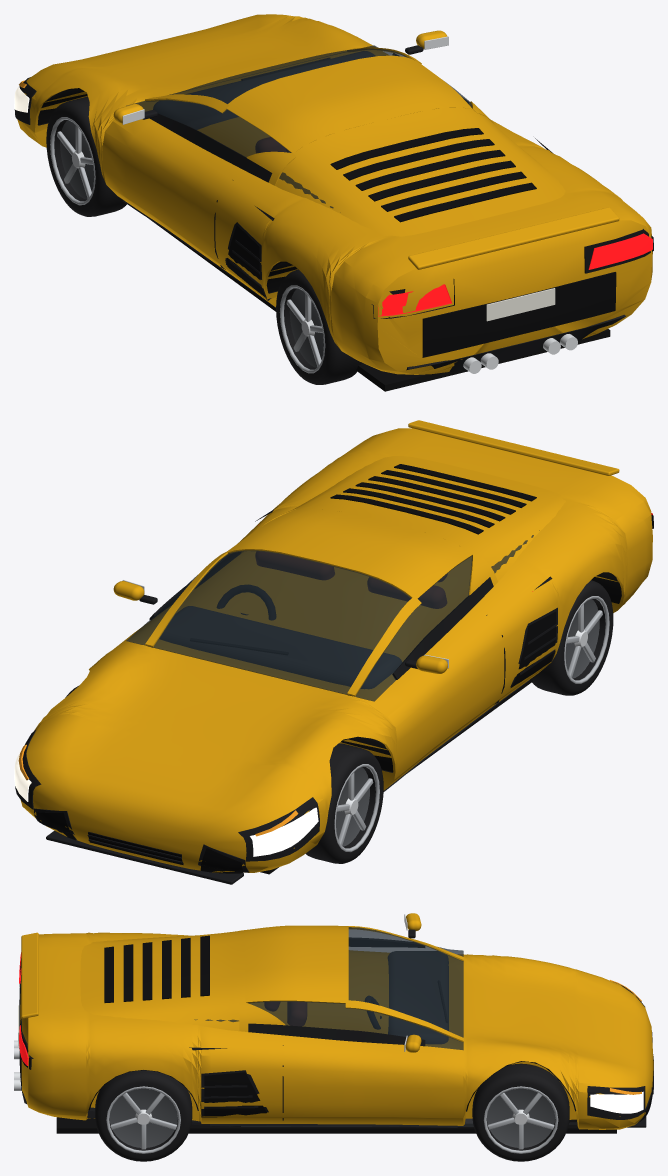
File: fulmine.glb
The picture shows the model from 3 angles, top to bottom: view 1: azimuth 30°, elevation 25°; view 2: azimuth 150°, elevation 25°; view 3: azimuth 270°, elevation 25°; orthographic projection. The views are drawn at different scales.
Visible parts, largest first — view 1: body_shell, engine_cover, roof, glasshouse, rear_grille, rear_lip, wheel_fl_tyre, wheel_rl_tyre, dashboard, underbody, diffuser, belt_seal_l (+20 smaller); view 2: body_shell, glasshouse, engine_cover, roof, dashboard, wheel_fl_tyre, wheel_rl_tyre, rear_lip, belt_seal_l, headlight_l, side_intake_l, splitter (+20 smaller); view 3: body_shell, glasshouse, engine_cover, roof, dashboard, wheel_fr_tyre, wheel_rr_tyre, underbody, wheel_rr_dish, wheel_fr_dish, side_intake_r, belt_seal_r (+20 smaller).
Part boxes in pixels (<box>): body_shell: <box>17,14,652,374</box>; engine_cover: <box>275,107,565,236</box>; roof: <box>226,55,472,152</box>; glasshouse: <box>126,45,472,212</box>; rear_grille: <box>422,272,616,357</box>; rear_lip: <box>408,207,619,269</box>; wheel_fl_tyre: <box>46,96,126,216</box>; wheel_rl_tyre: <box>276,269,362,384</box>; dashboard: <box>153,51,374,129</box>; underbody: <box>149,219,610,391</box>; diffuser: <box>393,314,625,374</box>; belt_seal_l: <box>149,113,272,182</box>; body_shell: <box>20,428,652,872</box>; glasshouse: <box>126,530,539,701</box>; engine_cover: <box>293,456,565,581</box>; roof: <box>227,508,472,598</box>; dashboard: <box>160,606,401,688</box>; wheel_fl_tyre: <box>305,743,383,863</box>; wheel_rl_tyre: <box>532,580,613,695</box>; rear_lip: <box>408,420,619,475</box>; belt_seal_l: <box>392,577,493,679</box>; headlight_l: <box>250,807,318,856</box>; side_intake_l: <box>511,611,556,687</box>; splitter: <box>46,830,243,884</box>; body_shell: <box>20,932,653,1129</box>; glasshouse: <box>194,927,463,1050</box>; engine_cover: <box>80,930,245,1031</box>; roof: <box>245,925,348,1003</box>; dashboard: <box>388,951,448,1043</box>; wheel_fr_tyre: <box>472,1063,569,1161</box>; wheel_rr_tyre: <box>95,1070,192,1161</box>; underbody: <box>56,1117,616,1133</box>; wheel_rr_dish: <box>109,1088,177,1147</box>; wheel_fr_dish: <box>487,1088,555,1147</box>; side_intake_r: <box>204,1072,266,1116</box>; belt_seal_r: <box>248,1023,425,1046</box>.
Size of the model in its own units: 2.13 by 1.17 by 4.34.
